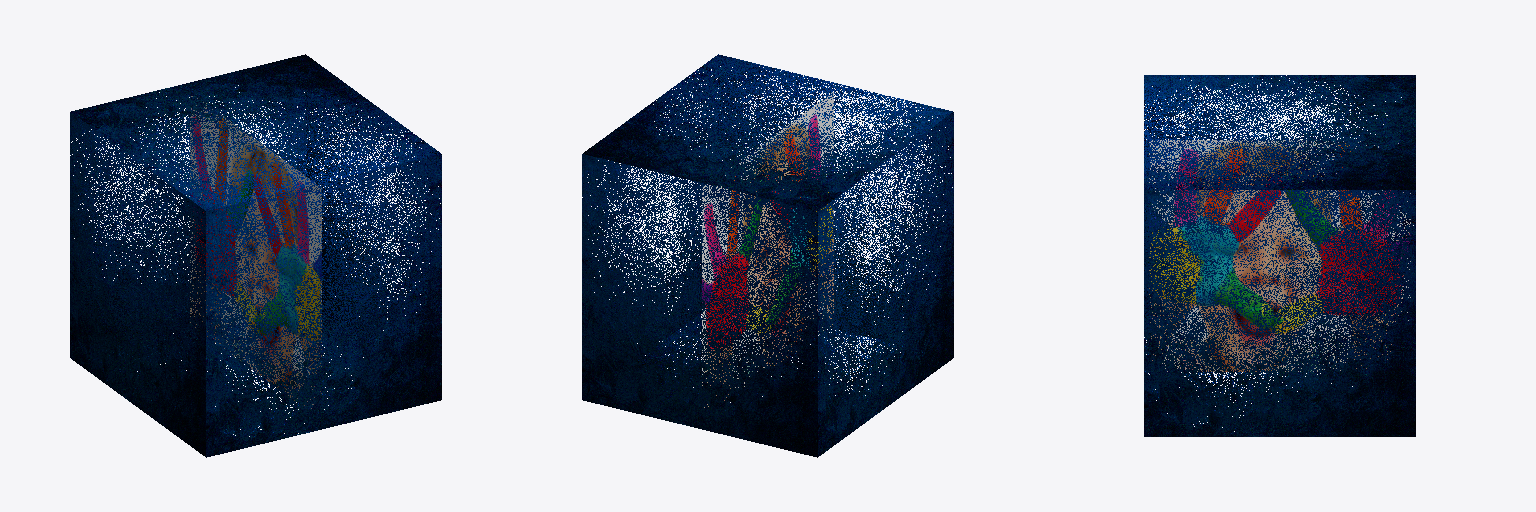
3 views of the same model, side by side, from view 1: azimuth 30°, elevation 25°; view 2: azimuth 150°, elevation 25°; view 3: azimuth 270°, elevation 25° (orthographic).
Visible parts, largest first — view 1: MemoryCubeB, Plane.004; view 2: MemoryCubeB, Plane.004; view 3: MemoryCubeB, Plane.004.
Boxes of the visible parts, x1,y1,x2,y2 form: MemoryCubeB: [70, 54, 441, 457]; Plane.004: [190, 96, 321, 408]; MemoryCubeB: [582, 54, 953, 457]; Plane.004: [702, 92, 833, 407]; MemoryCubeB: [1144, 75, 1415, 436]; Plane.004: [1149, 140, 1410, 371].
Size of the model in its own units: 2 by 2 by 2.
2 materials, 2 textured.